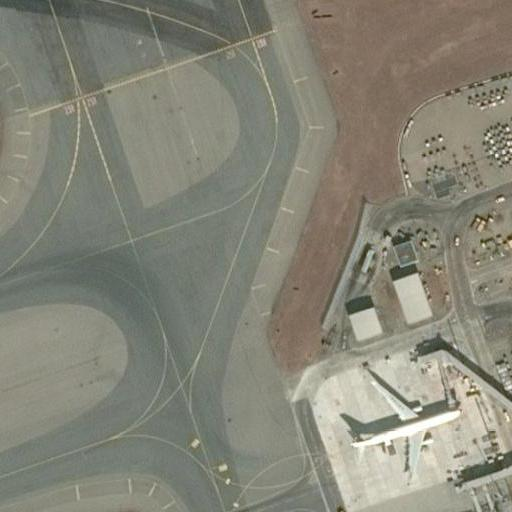Aircraft: (337, 356, 462, 477)
